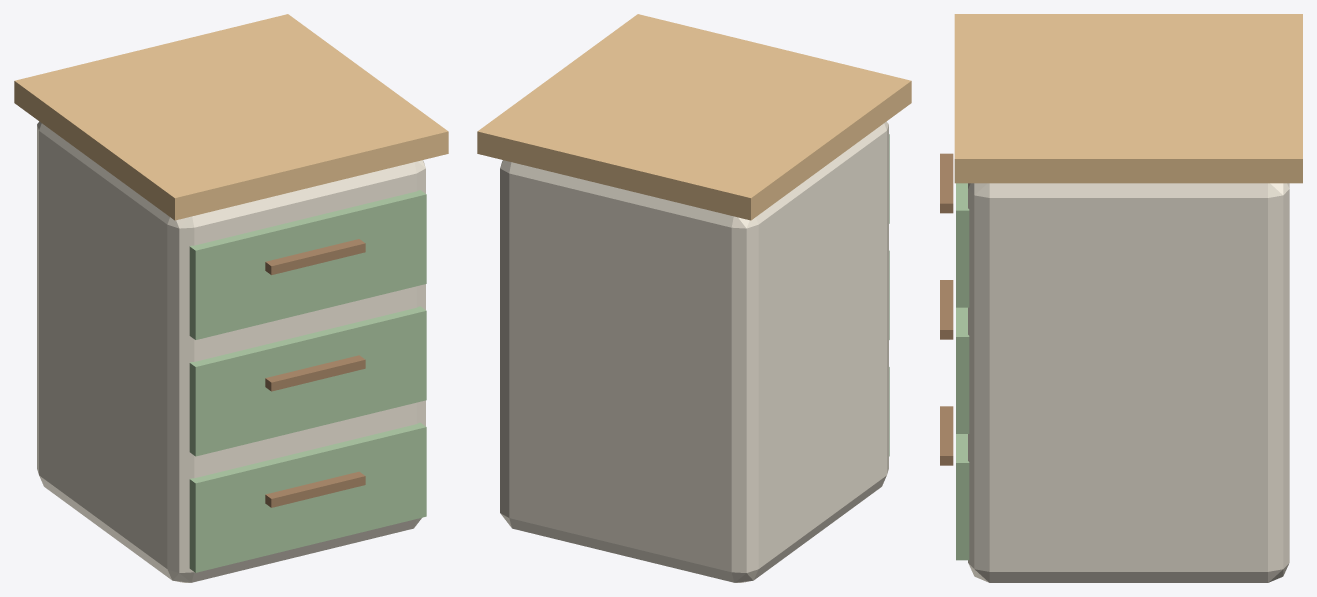
Rendered from cozy-home-interiors-drawer-base-457ef3b6.glb.
3 views of the same model, side by side, from view 1: azimuth 30°, elevation 25°; view 2: azimuth 150°, elevation 25°; view 3: azimuth 270°, elevation 25° (orthographic). The views are drawn at different scales.
Parts seen in each view (by area): view 1: drawer-base; view 2: drawer-base; view 3: drawer-base.
Boxes of the visible parts, x1,y1,x2,y2 form: drawer-base: (14,14,448,582); drawer-base: (477,14,911,582); drawer-base: (940,14,1302,582).
Bounding box in the file's own units: 0.64 × 0.9 × 0.6775.
